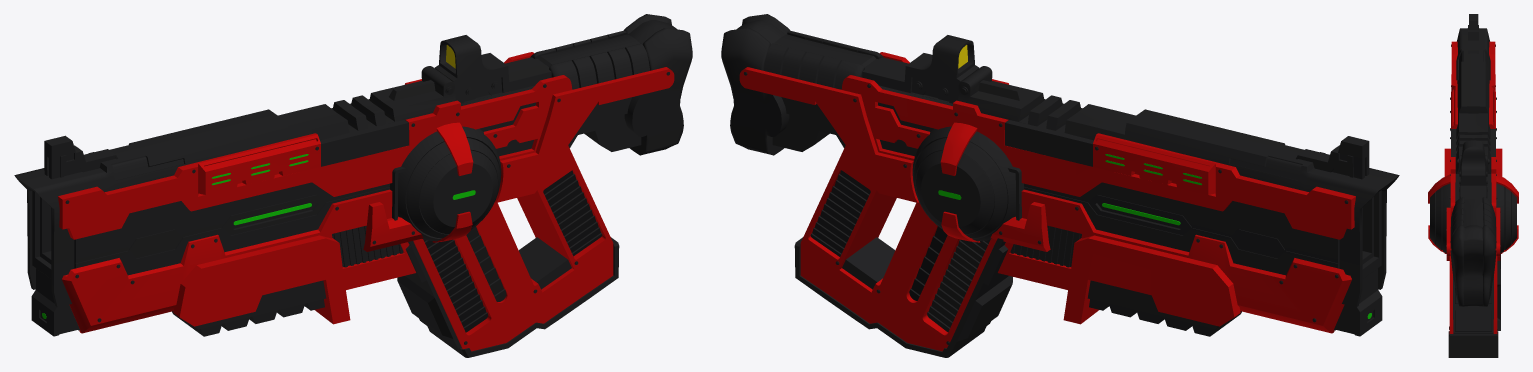
File: lowpolyMesh3.fbx
3 views of the same model, side by side, from view 1: azimuth 30°, elevation 25°; view 2: azimuth 150°, elevation 25°; view 3: azimuth 270°, elevation 25° (orthographic). The views are drawn at different scales.
Parts seen in each view (by area): view 1: redPlastic5_low, metallicGrey2_low, redPlasticBottom5_low, metallicGrey1_low, redPlasticBottom_low, redPlastic2_low, metallicGreyCircle_low, redPlasticBottom4_low, metallicGreyEnd_low, metallicGreyEnd3_low, peepholeMetallic_low, metallicGrey3_low (+20 smaller); view 2: redPlastic5_low, metallicGrey2_low, redPlasticBottom5_low, metallicGrey1_low, redPlasticBottom_low, redPlastic2_low, metallicGreyCircle_low, redPlasticBottom4_low, metallicGreyEnd_low, metallicGreyEnd3_low, peepholeMetallic_low, metallicGrey3_low (+20 smaller); view 3: metallicGrey2_low, metallicGreyCircle_low, redPlastic5_low, metallicGreyEnd_low, peepholeMetallic_low, metallicGreyEnd2_low, metallicGreydetails_low, metallicGreyEnd3_low, metallicGrey5_low, redPlasticBottom5_low, smallredPlasticBottom6_low, redPlasticBottom4_low (+5 smaller).
Part boxes in pixels (left/top/right/bottom): redPlastic5_low: left=58, top=52, right=572, bottom=239; metallicGrey2_low: left=14, top=66, right=455, bottom=307; redPlasticBottom5_low: left=413, top=145, right=613, bottom=351; metallicGrey1_low: left=74, top=182, right=389, bottom=275; redPlasticBottom_low: left=62, top=189, right=392, bottom=333; redPlastic2_low: left=173, top=235, right=350, bottom=326; metallicGreyCircle_low: left=398, top=126, right=501, bottom=241; redPlasticBottom4_low: left=495, top=67, right=674, bottom=202; metallicGreyEnd_low: left=624, top=14, right=692, bottom=155; metallicGreyEnd3_low: left=530, top=30, right=649, bottom=89; peepholeMetallic_low: left=434, top=35, right=551, bottom=103; metallicGrey3_low: left=31, top=190, right=79, bottom=336; redPlastic5_low: left=841, top=52, right=1355, bottom=239; metallicGrey2_low: left=958, top=66, right=1399, bottom=307; redPlasticBottom5_low: left=800, top=145, right=996, bottom=351; metallicGrey1_low: left=1024, top=182, right=1339, bottom=275; redPlasticBottom_low: left=1021, top=189, right=1351, bottom=333; redPlastic2_low: left=1063, top=235, right=1240, bottom=326; metallicGreyCircle_low: left=912, top=126, right=1015, bottom=241; redPlasticBottom4_low: left=739, top=67, right=918, bottom=202; metallicGreyEnd_low: left=721, top=14, right=789, bottom=155; metallicGreyEnd3_low: left=764, top=30, right=883, bottom=89; peepholeMetallic_low: left=862, top=35, right=979, bottom=103; metallicGrey3_low: left=1334, top=190, right=1382, bottom=336; metallicGrey2_low: left=1456, top=28, right=1490, bottom=173; metallicGreyCircle_low: left=1430, top=183, right=1516, bottom=253; redPlastic5_low: left=1450, top=41, right=1496, bottom=226; metallicGreyEnd_low: left=1450, top=225, right=1496, bottom=306; peepholeMetallic_low: left=1459, top=140, right=1487, bottom=199; metallicGreyEnd2_low: left=1463, top=225, right=1483, bottom=304; metallicGreydetails_low: left=1453, top=276, right=1493, bottom=333; metallicGreyEnd3_low: left=1450, top=197, right=1496, bottom=248; metallicGrey5_low: left=1448, top=331, right=1498, bottom=357; redPlasticBottom5_low: left=1449, top=249, right=1497, bottom=333; smallredPlasticBottom6_low: left=1428, top=174, right=1518, bottom=253; redPlasticBottom4_low: left=1446, top=207, right=1500, bottom=260.
Size of the model in its own units: 278 by 121 by 50.54.
